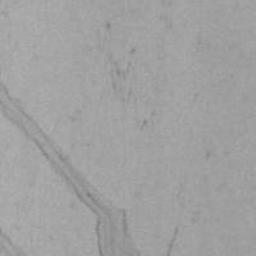Water spot: (0, 79, 142, 256), (0, 223, 32, 256)
